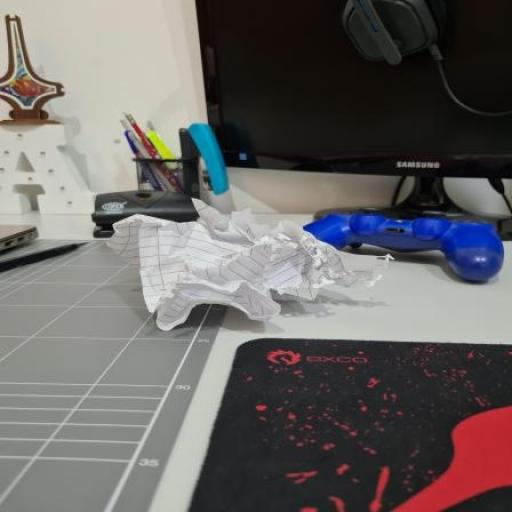paper: (66, 186, 382, 340)
